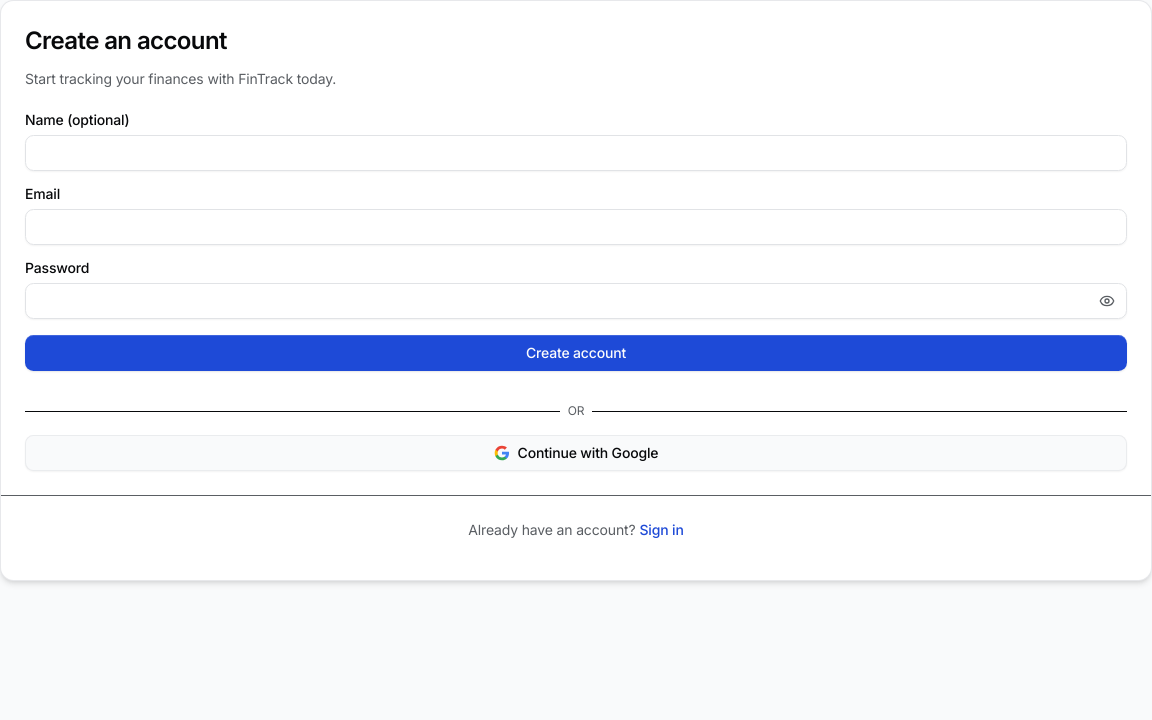
Test: Auth Forms › RegisterForm › shows password too short validation message for short password
Type "user@example.com" into the field labelled "Email" at x=576, y=227, box [25,209,1127,245]
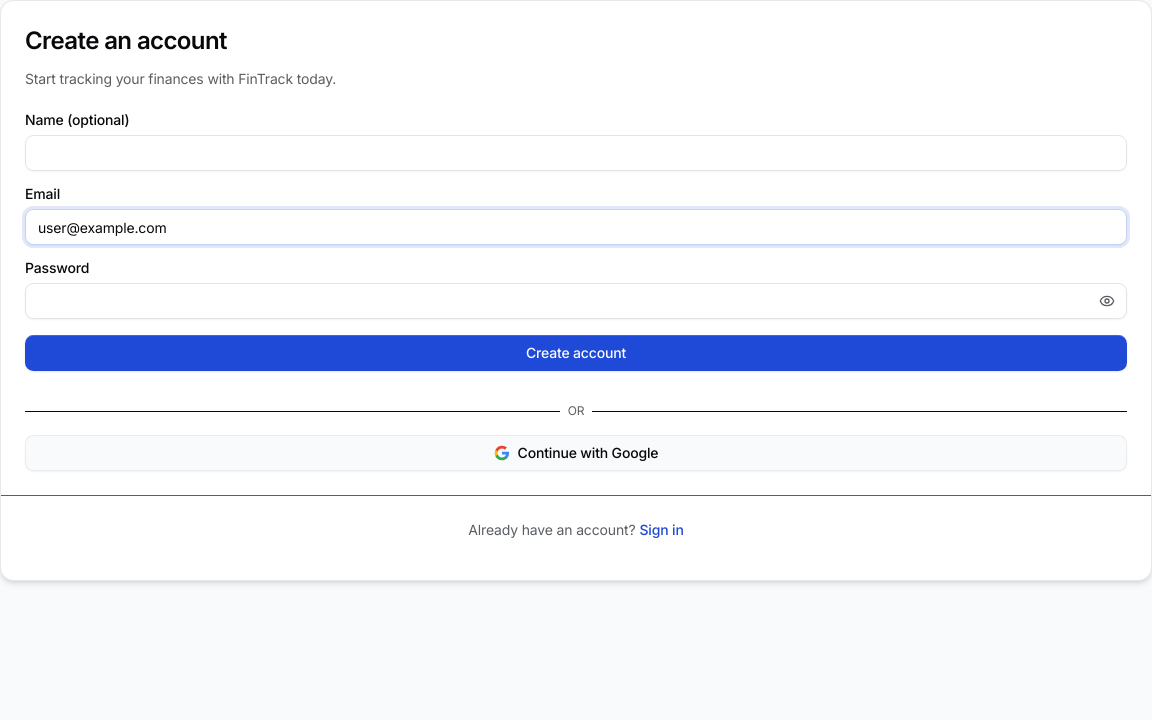
Type "12345" into the password field labelled "Password" at x=576, y=301, box [25,283,1127,319]
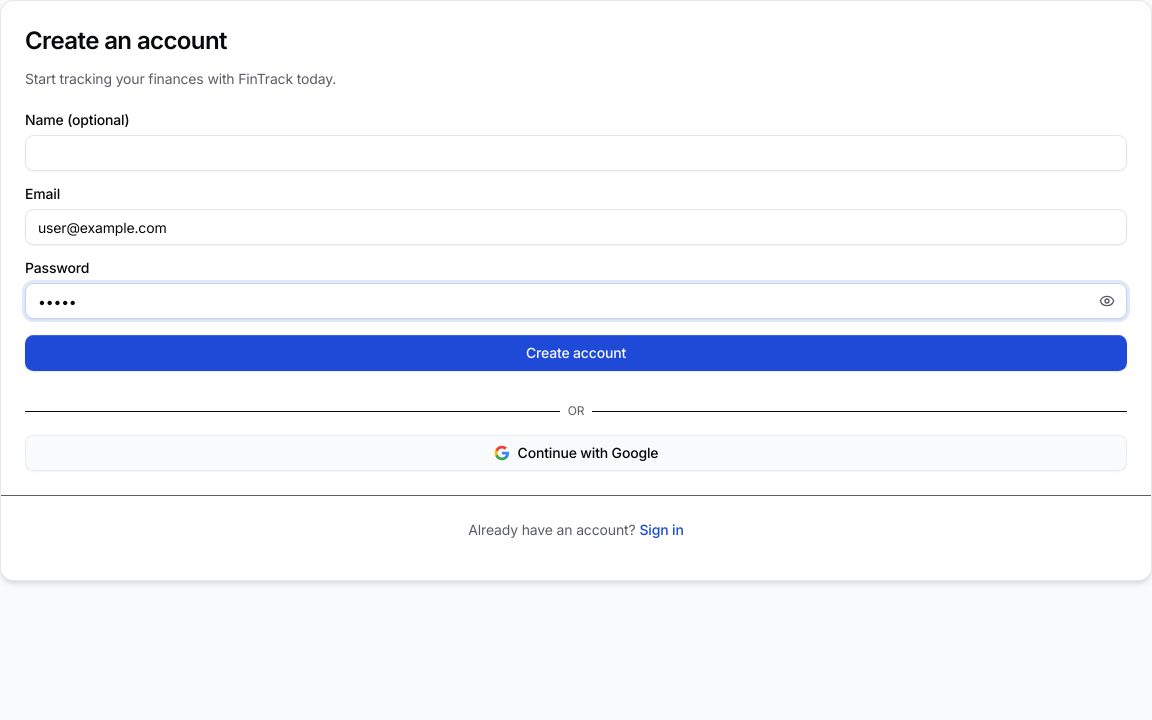
Click the button "Create account" at x=576, y=353, box [25,335,1127,371]
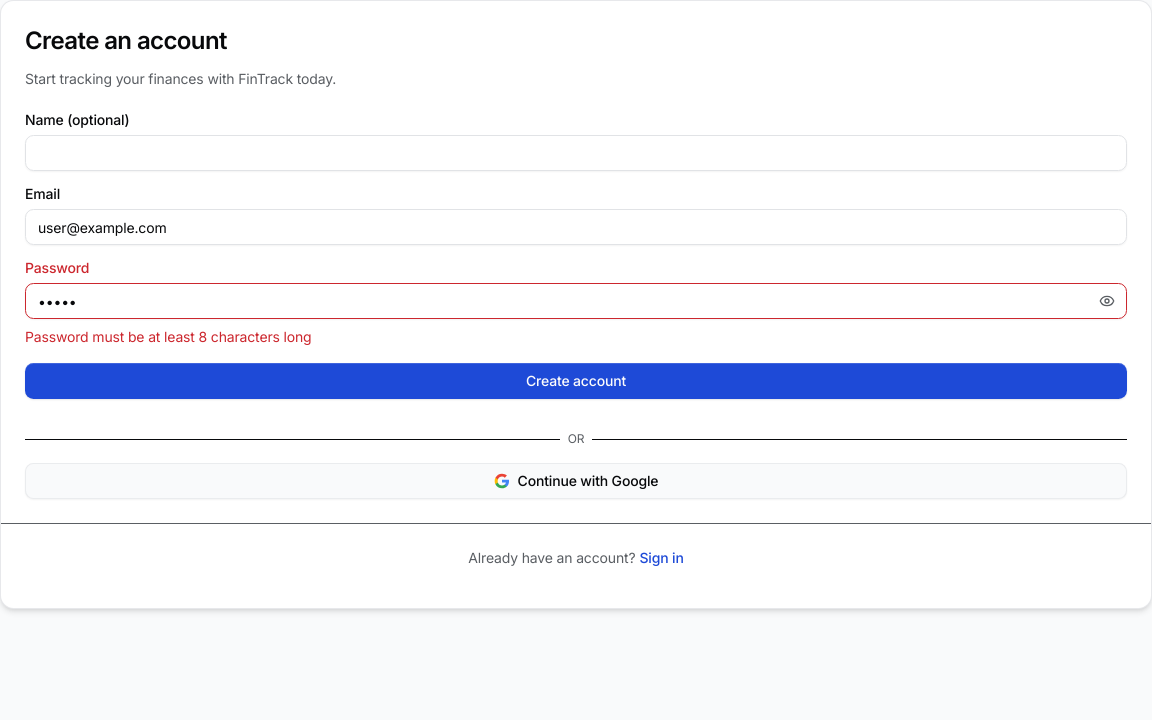
Result: the text "Password must be at least 8 characters long" is shown at [25,328,312,345]
